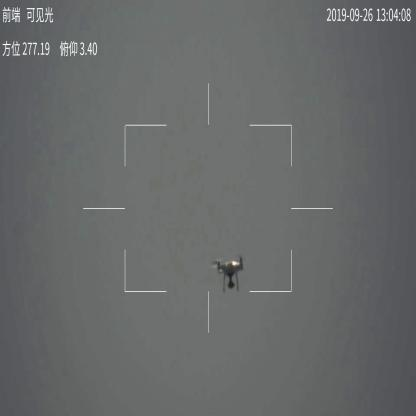uav: (204, 254, 249, 291)
